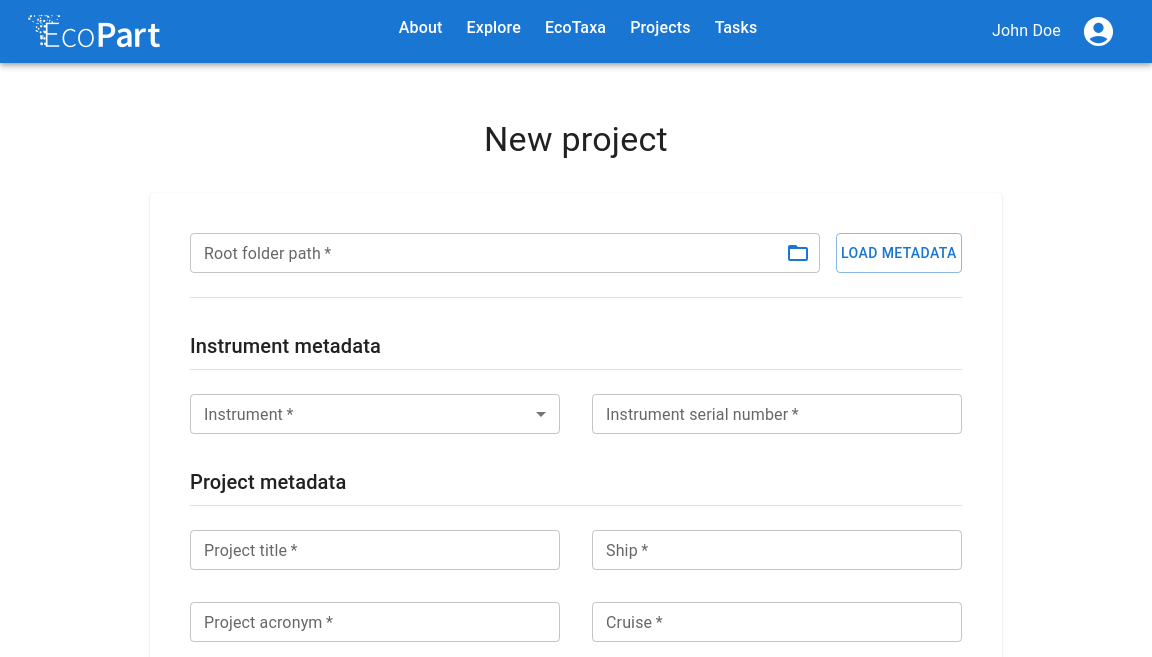
Test: NewProjectPage (Functional) › TC-H7: should append existing metadata people to privileges as members on Load metadata
The width and height of the screenshot is (1152, 657).
Expected: the heading "New project" is shown, [484,119,668,159]
Type "/data/UVP5_sn001_TST" into the field labelled "Root folder path *".
click(480, 253); type("/data/UVP5_sn001_TST")  # box [190,233,770,273]
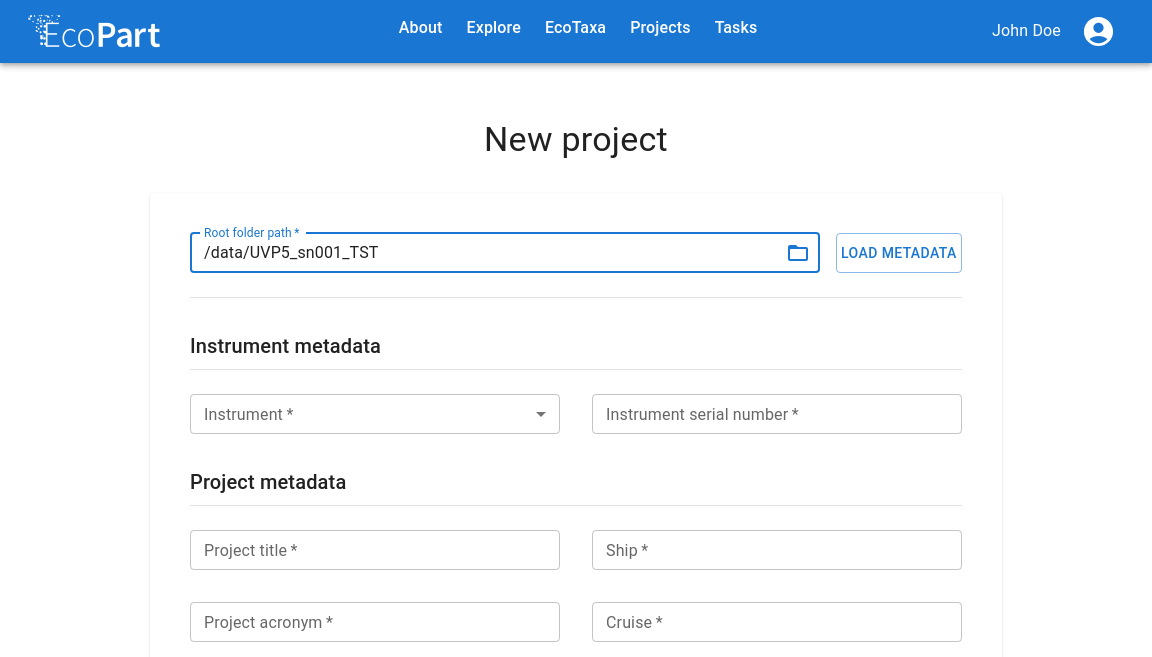
Click the button "Load metadata".
click(899, 253)  # box [836,233,962,273]
(page scrolled)
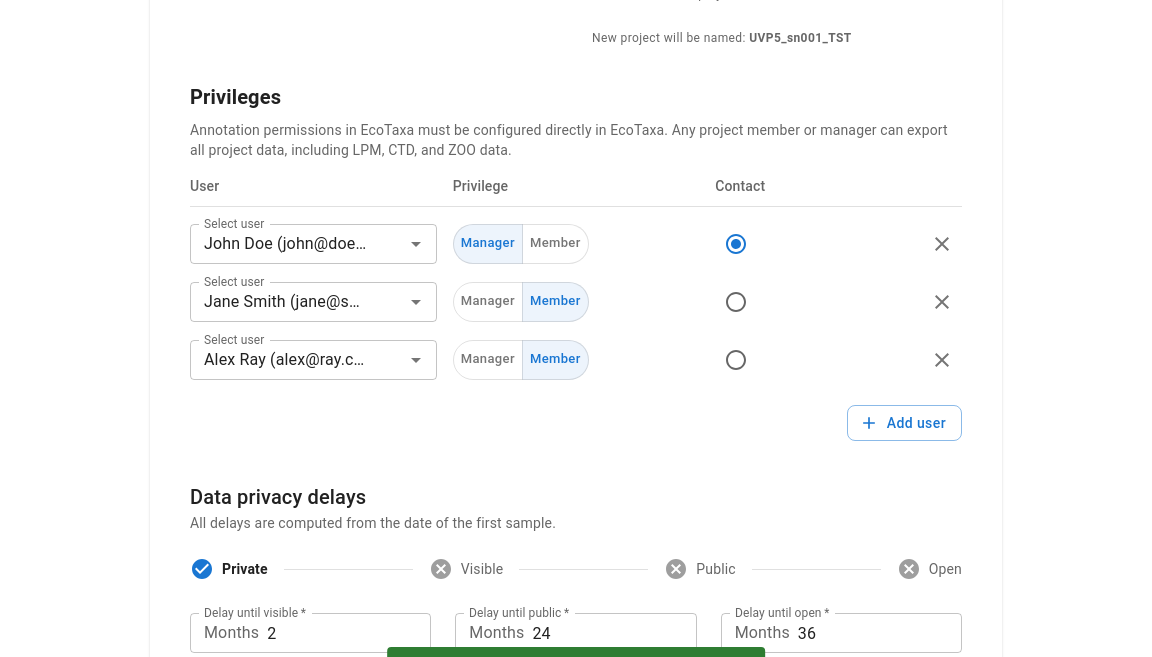
Expected: the 1st dropdown showing "John Doe (john@doe.com)" is shown, [196,230,372,258]
Now the 2nd dropdown showing "Jane Smith (jane@smith.com)" is shown, box [196,288,372,316]
Now the 3rd dropdown showing "Alex Ray (alex@ray.com)" is shown, box [196,346,372,374]
